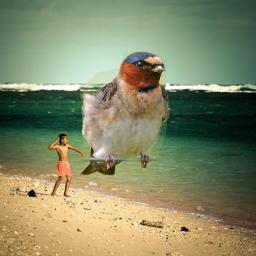Swallow: (79, 51, 171, 177)
